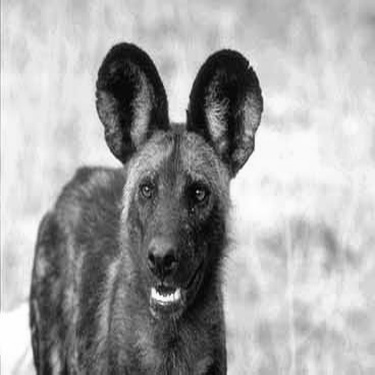dog: (22, 28, 272, 373)
